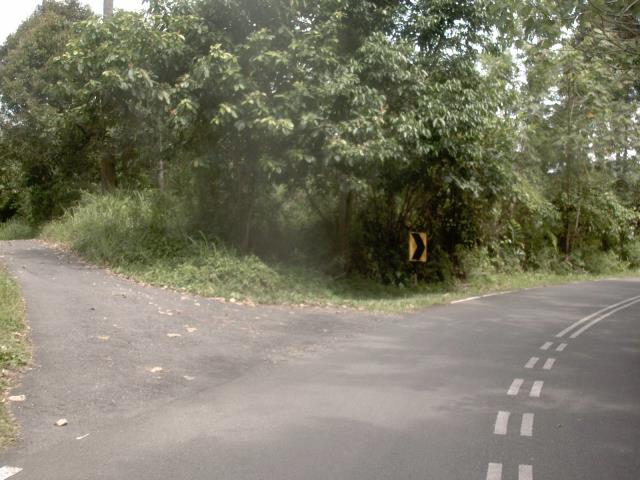traffic_sign: (402, 224, 435, 268)
